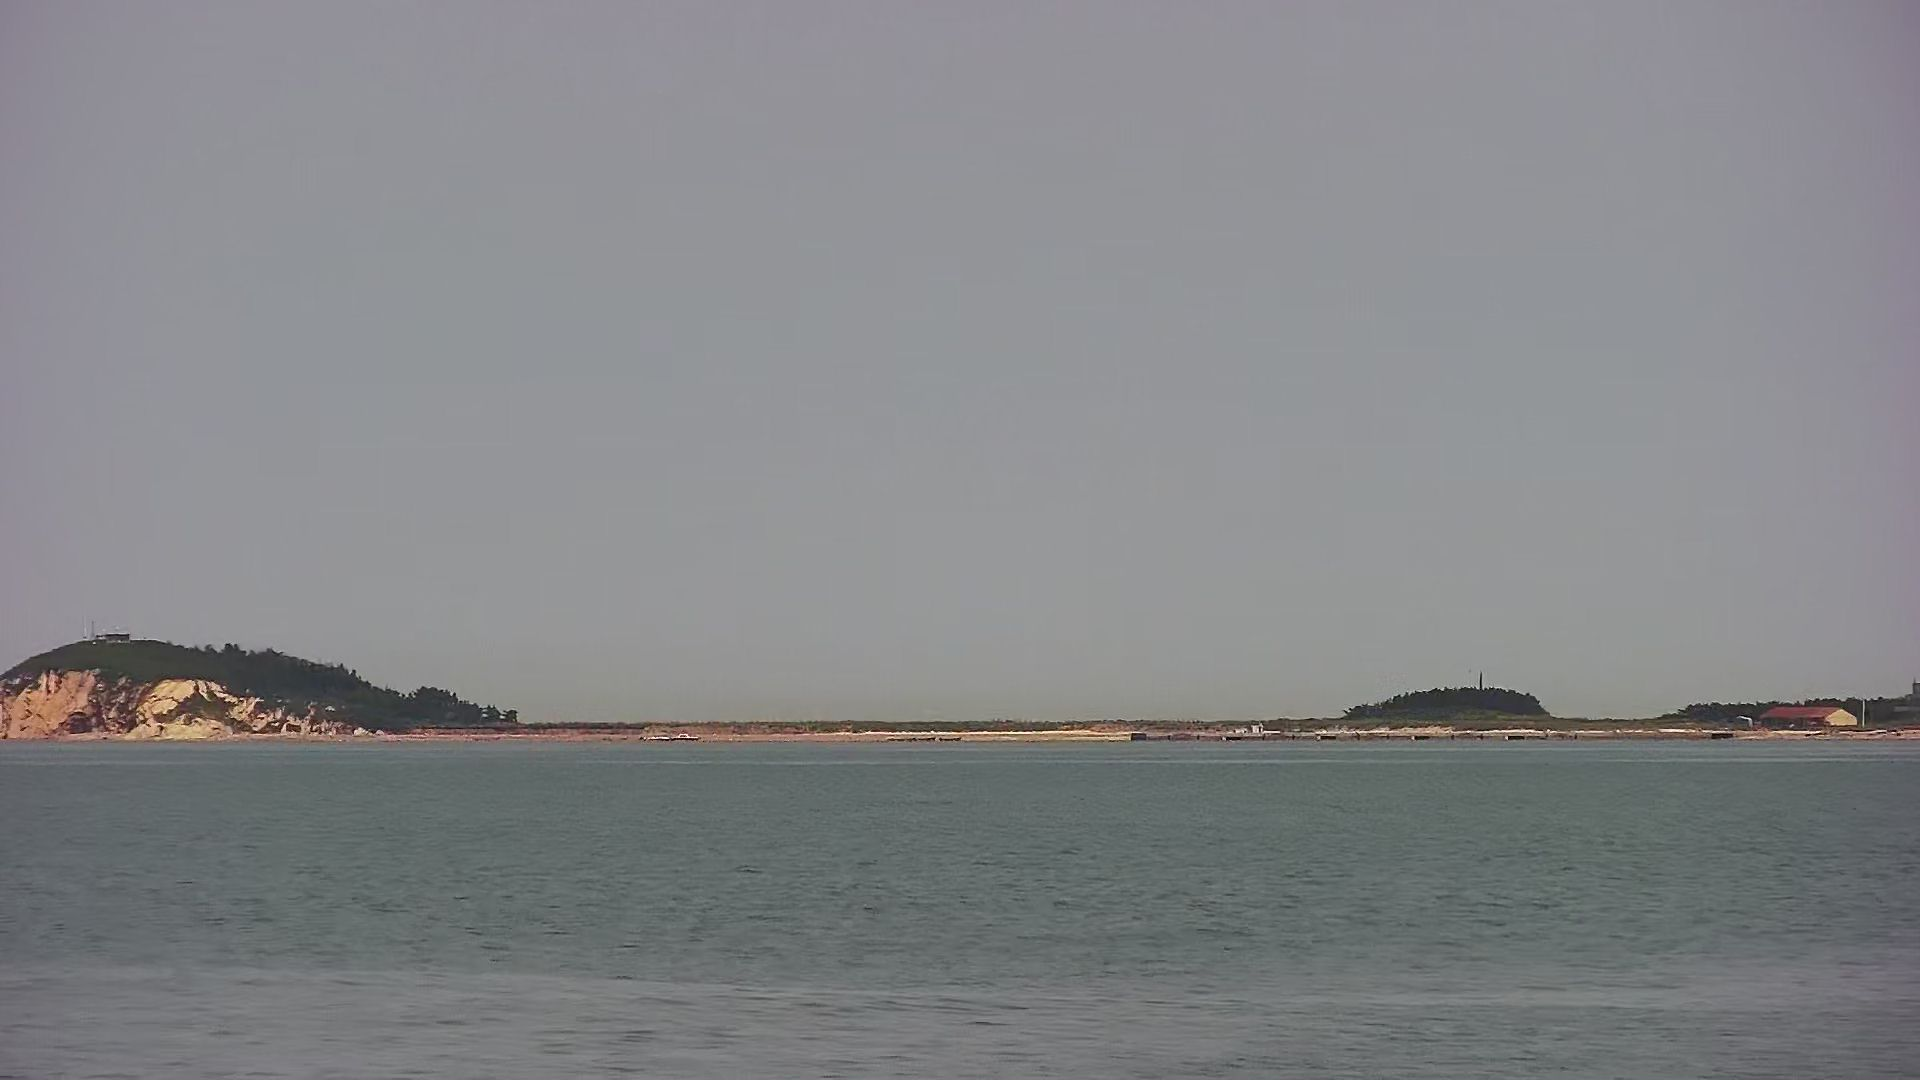rock: (1, 608, 510, 744)
